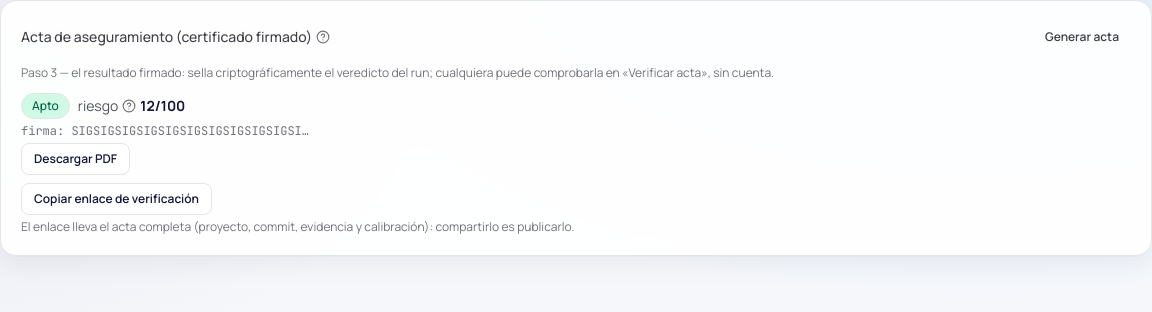
Test: CertificateCard enlace de verificación › al generar una acta nueva, el enlace de reserva de la acta vieja deja de mostrarse
The width and height of the screenshot is (1152, 312).
Click the button "Copiar enlace de verificación" at (116, 199), box [21,183,212,215]
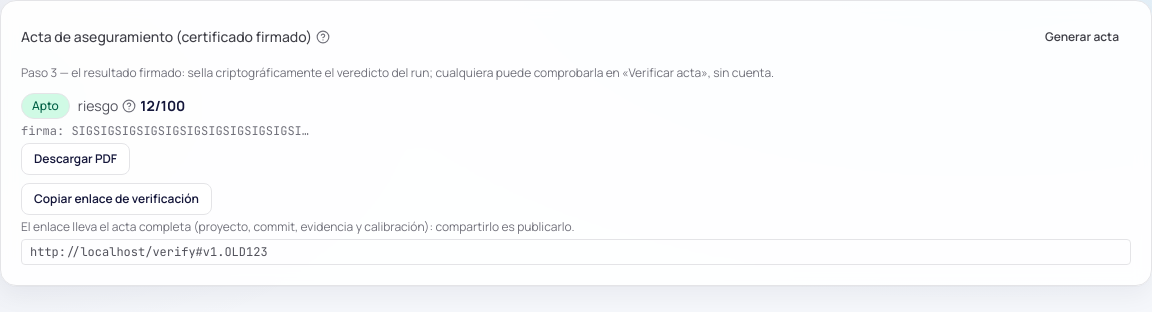
Click the button "Generar acta" at (1082, 37), box [1033,21,1131,53]
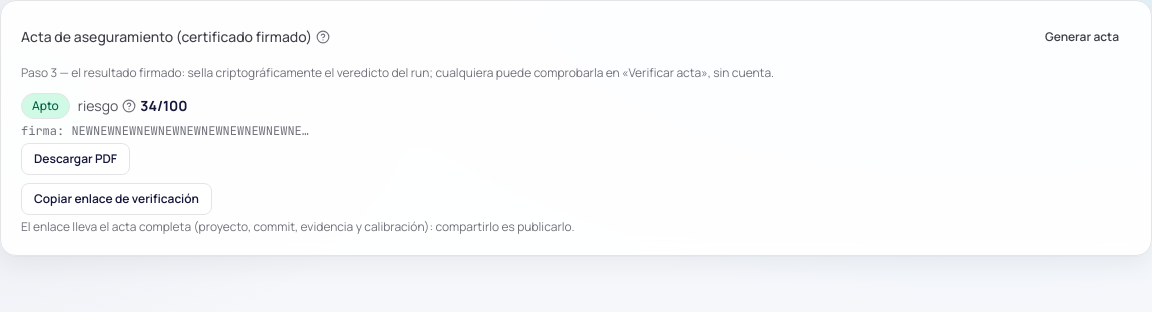
Expected: the text "34/100" is shown, [140,96,188,116]
